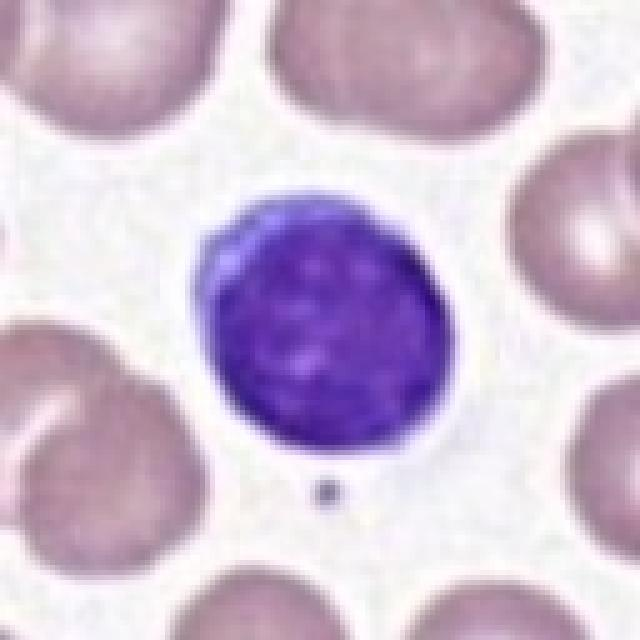lympho: (183, 176, 462, 459)
